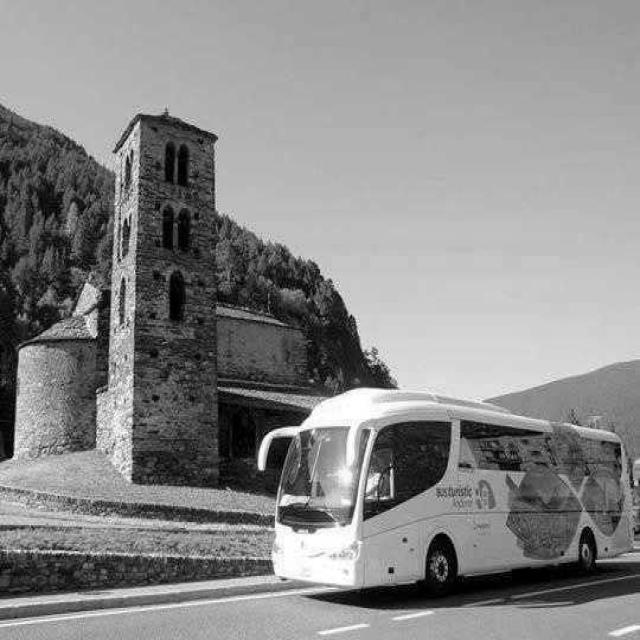Bus: (257, 388, 634, 592)
